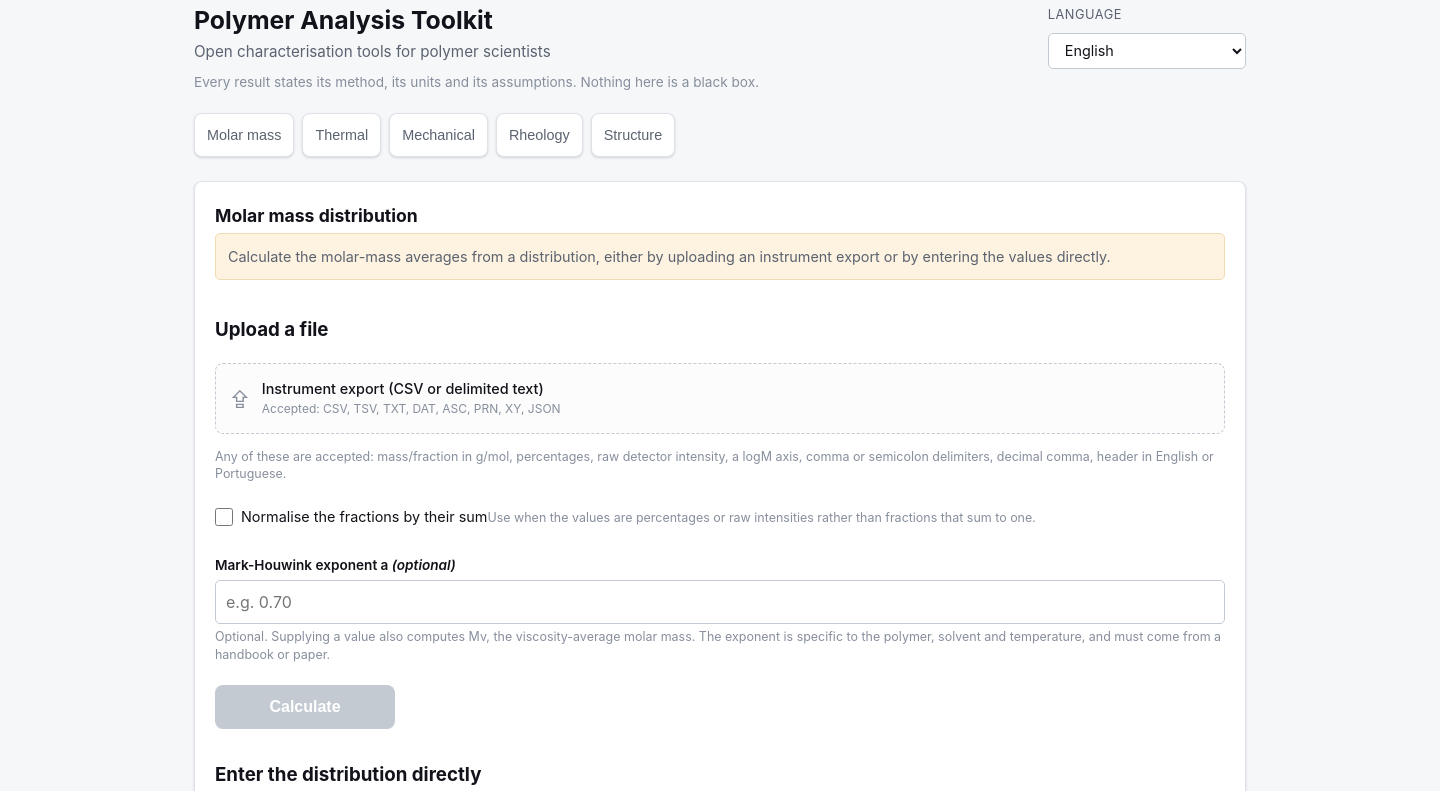
Scenario: thermal mode clarity › the active mode is stated in words, not just a highlighted tab
Click the button "Thermal" at (342, 135), box [302,113,381,157]
(page scrolled)
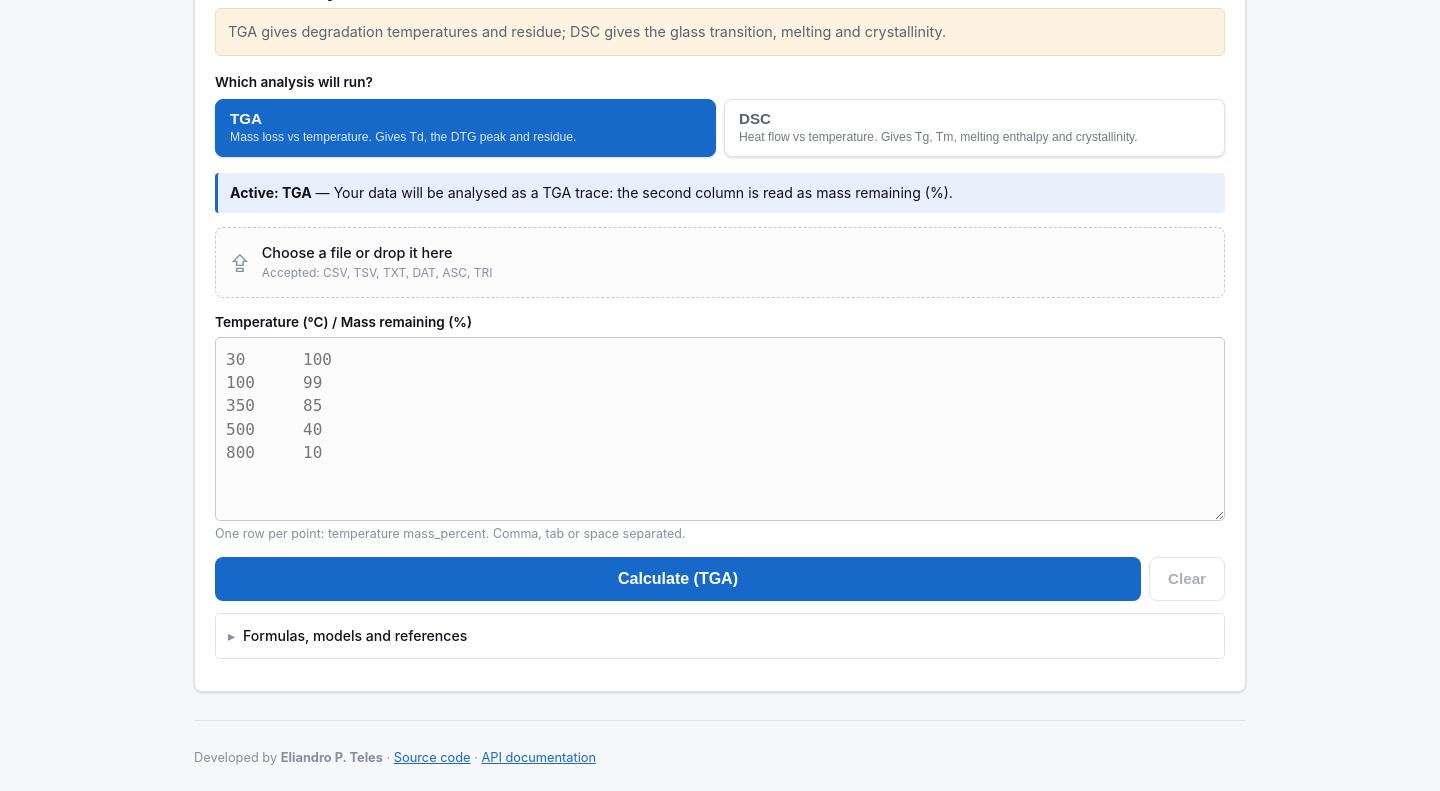
Check: the element that starts with "Active: TGA" is shown, box [230,184,312,201]
Check: the element that starts with "Active: TGA" shows "read as mass remaining", box [334,184,953,201]
